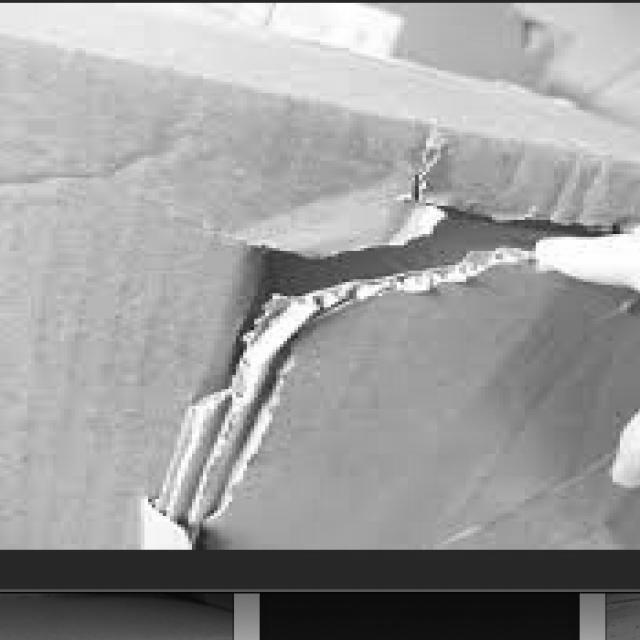hole: (217, 192, 629, 410)
